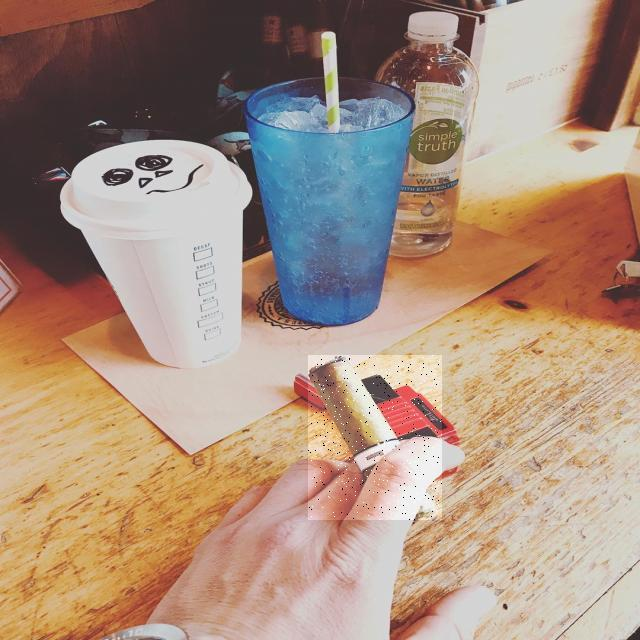smoking: (308, 355, 442, 520)
